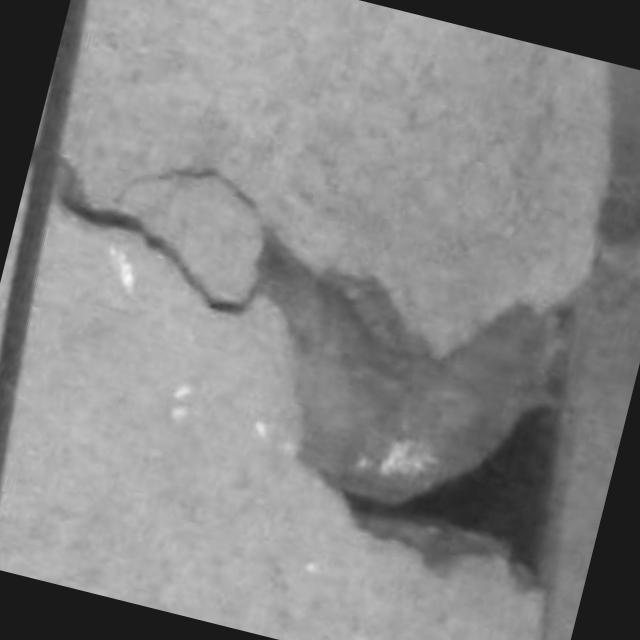crack: (253, 230, 570, 586), (58, 164, 242, 313), (55, 162, 141, 230)
